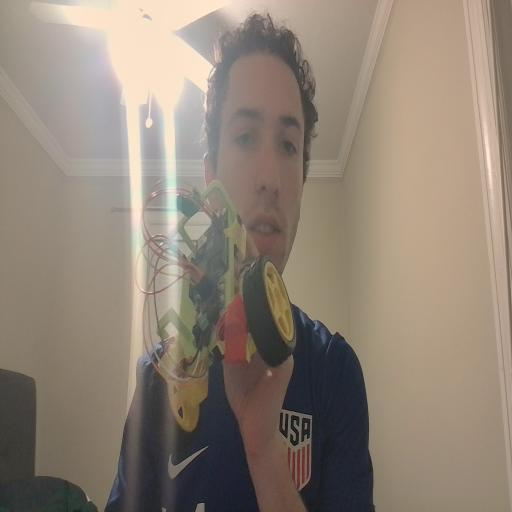green LEGO minifig: (174, 187, 202, 218)
